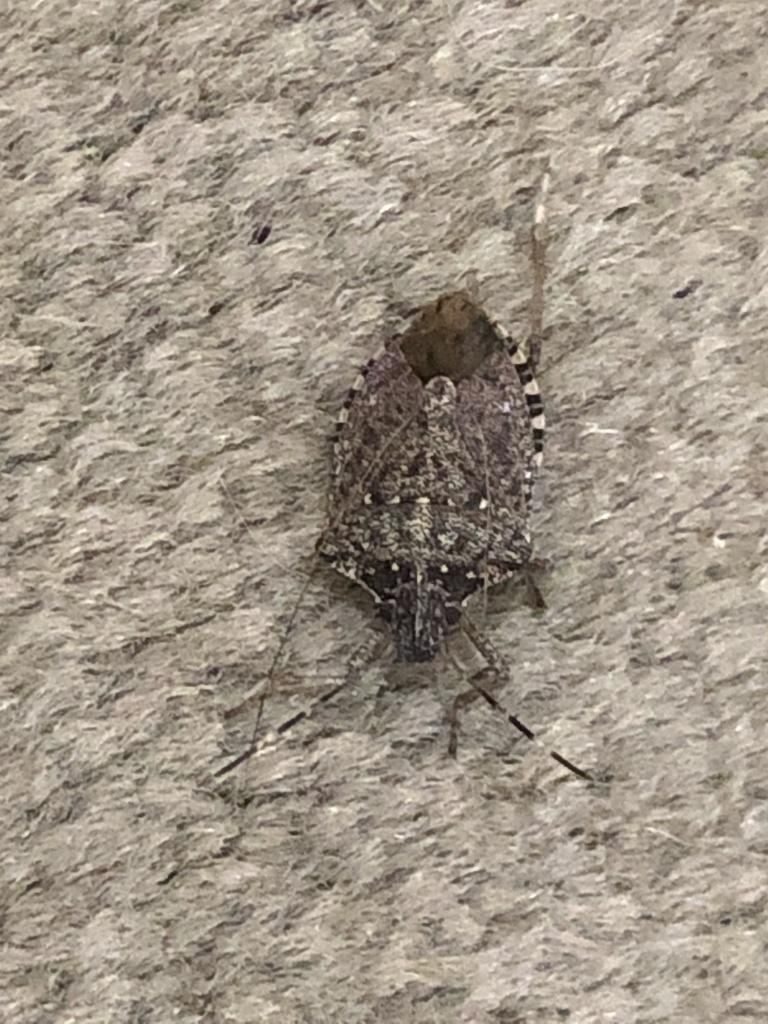stink_bugs: (153, 154, 713, 911)
